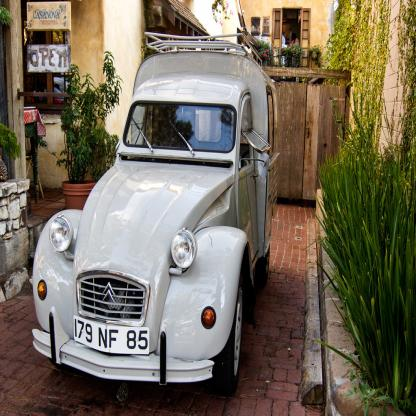Car: (34, 36, 284, 398)
